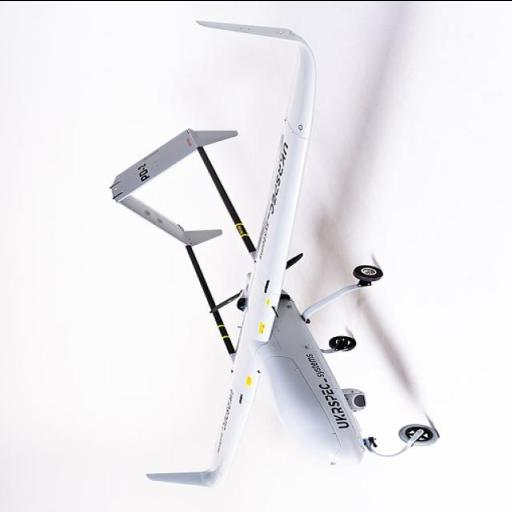uav: (111, 0, 443, 495)
